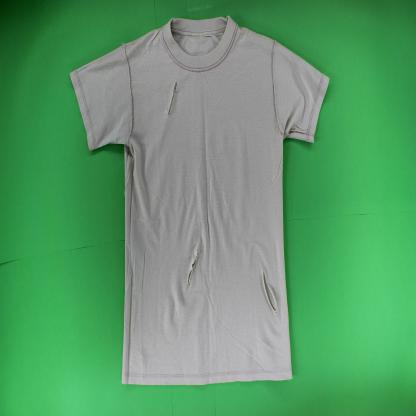hole: (261, 268, 279, 319), (185, 249, 201, 292), (166, 80, 179, 118)
